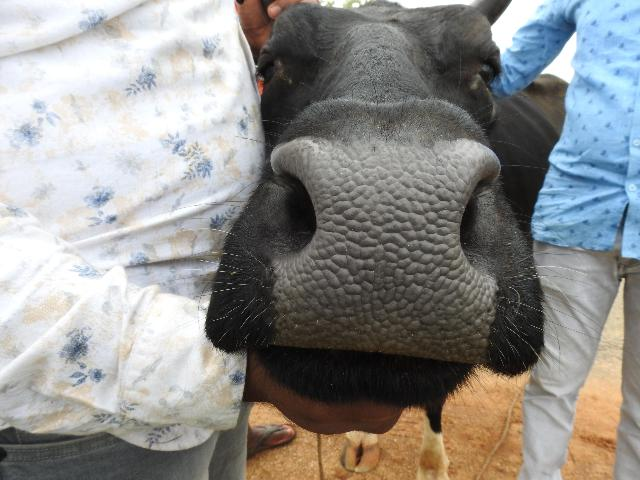Muzzle: (284, 146, 480, 344)
